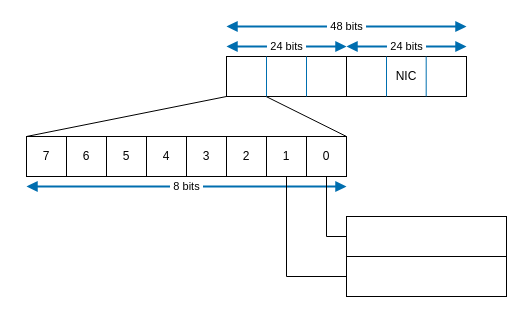
This 524x314 diagram has some shape labels left out. The centre of each missing label's shape, as x and y in pixels:
0 : Globally Unique 1 : Locally Administered: [426,276]
0 : UniCast 1 : MultiCast: [426,236]
OUI: [286,76]
